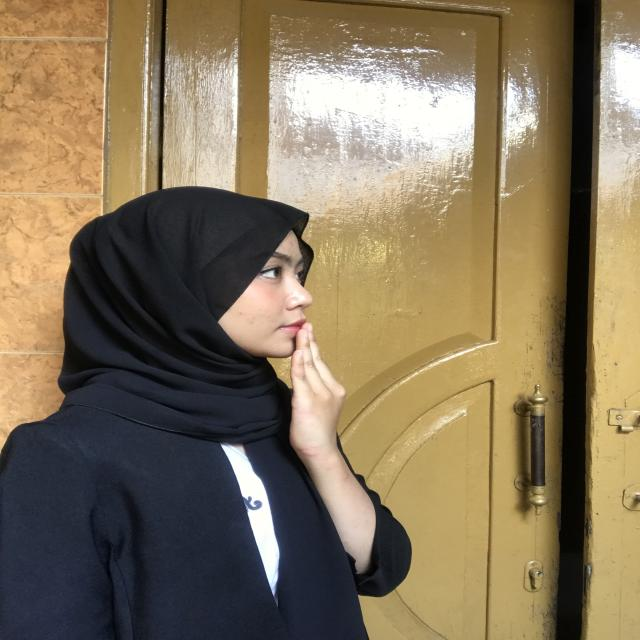ganteng: (262, 311, 378, 518)
